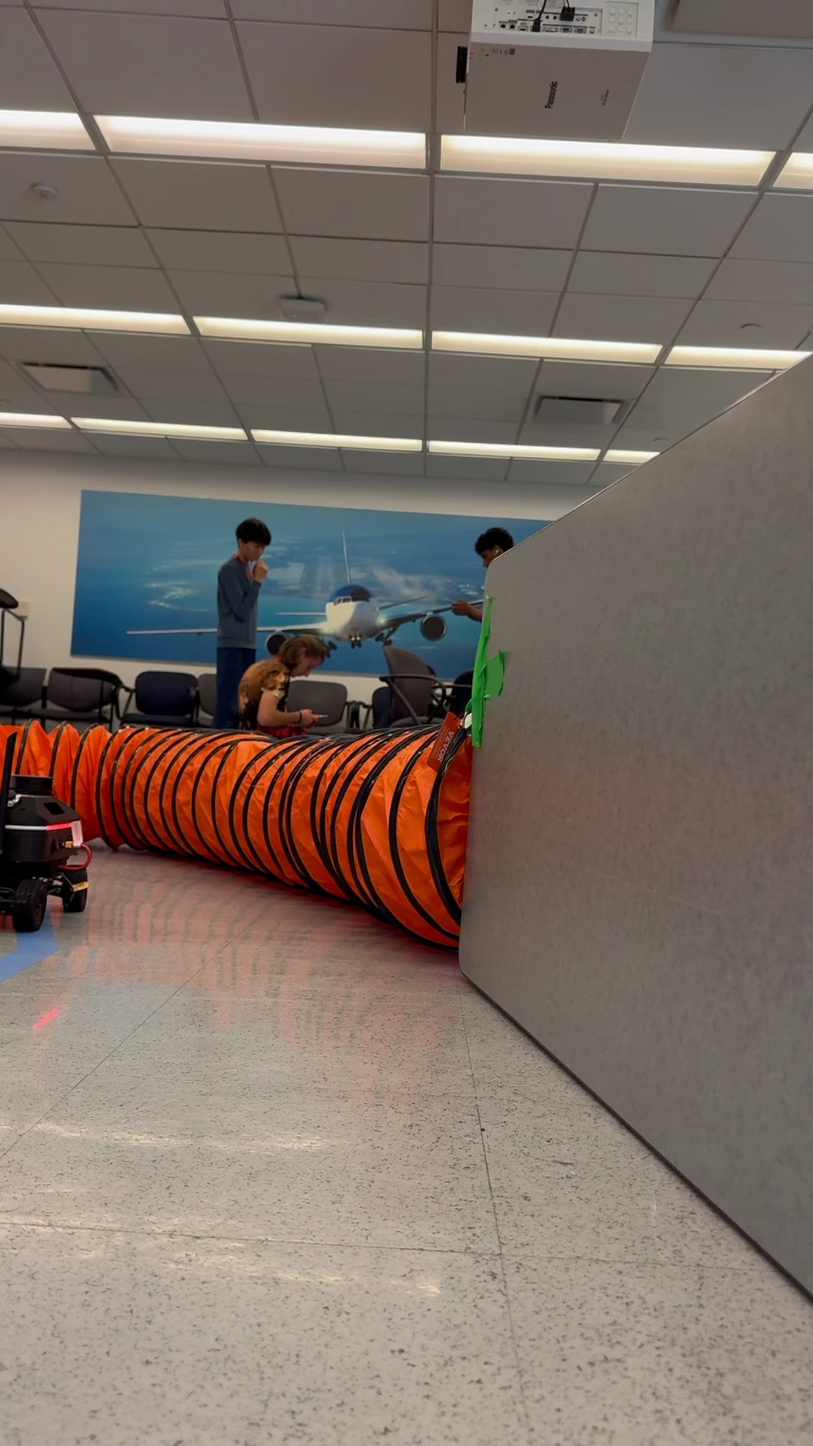racecar: (0, 764, 98, 935)
